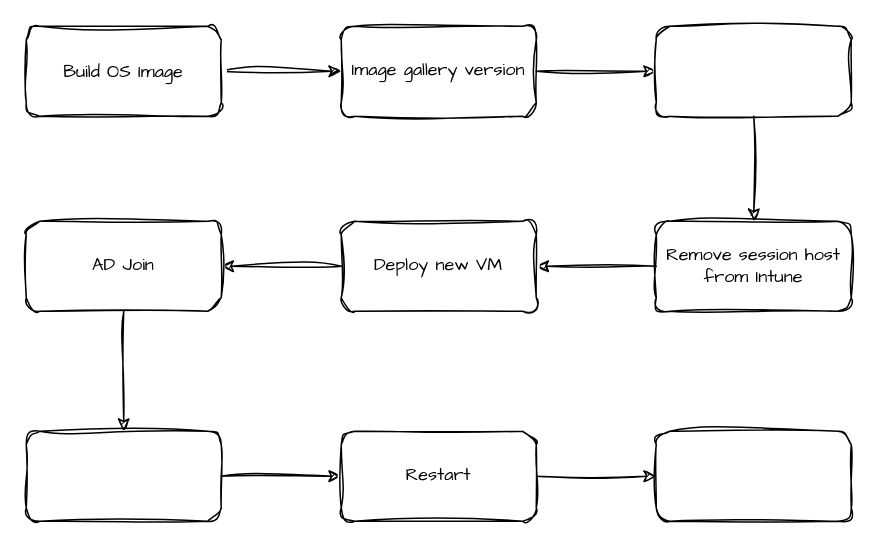
Some shapes in this 878 by 548 pixel diagram are drawn without their labels. The centre of each missing label's shape, as x and y in pixels:
Add to AVD Host pool: the point at 753,475
Remove session host: the point at 753,70
Wait for sync: the point at 123,475
